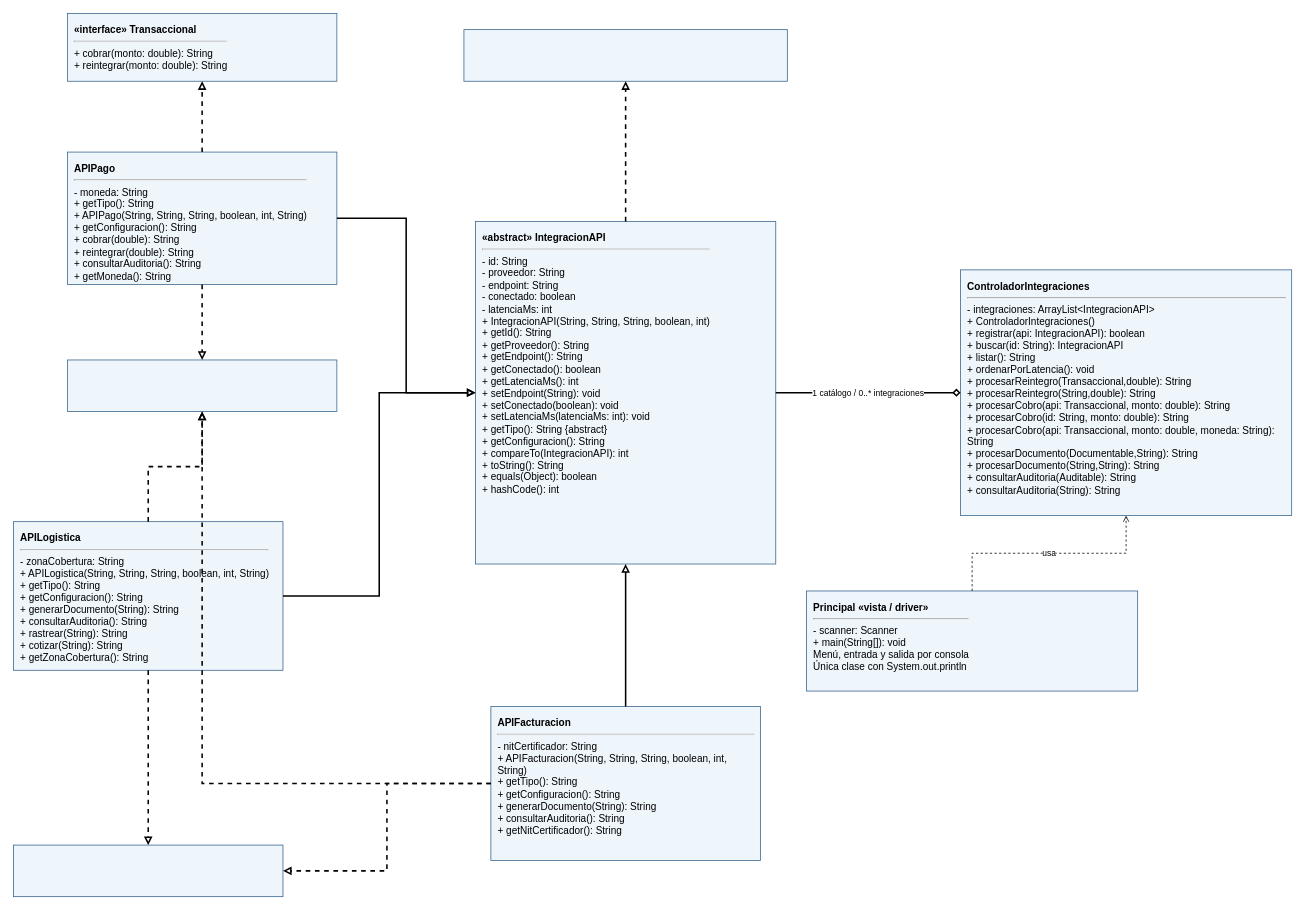
The diagram is 1305 pixels wide and 910 high, and some of its shapes have lost their labels. The box of each missing label's shape, as (x1, y1, x2, y2) in pixels:
«interface» Auditable + consultarAuditoria(): String: (67, 359, 337, 412)
«interface» Comparable<IntegracionAPI> + compareTo(IntegracionAPI): int: (463, 29, 787, 81)
«interface» Documentable + generarDocumento( datos : String): String: (13, 844, 283, 897)
